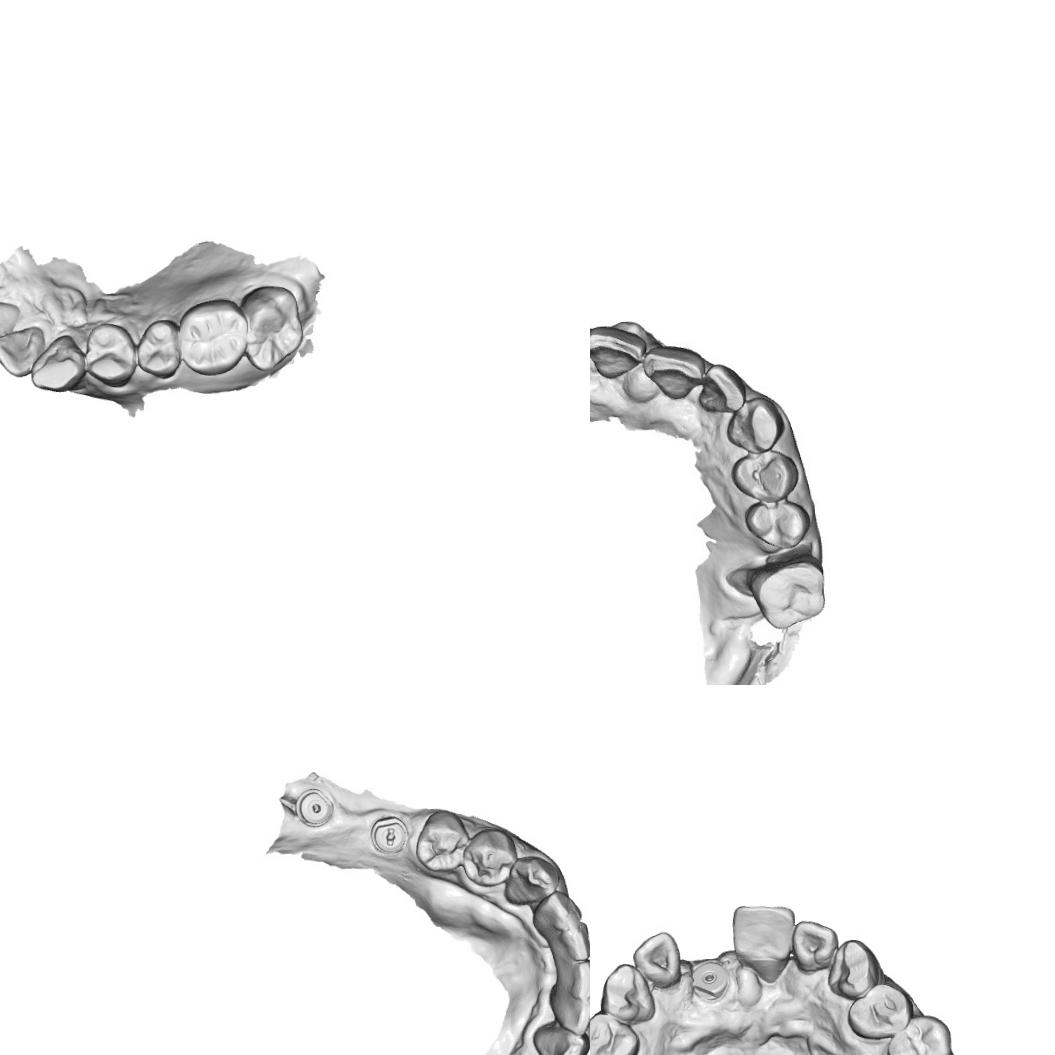canine: (597, 960, 658, 1026), (27, 334, 92, 395), (824, 934, 879, 1002), (502, 852, 561, 908), (724, 393, 780, 444), (528, 1020, 590, 1055)
implant: (686, 957, 736, 1006), (293, 783, 338, 831)
implant_minus: (367, 810, 410, 858)
incisor: (730, 902, 798, 984), (638, 345, 702, 400), (630, 928, 685, 992), (590, 323, 646, 381), (691, 363, 747, 419), (790, 917, 842, 975), (531, 887, 585, 939), (0, 323, 46, 379), (545, 983, 590, 1036), (543, 920, 590, 967), (547, 957, 590, 1003), (0, 294, 26, 353)
molar: (174, 298, 254, 382), (238, 287, 308, 380), (750, 561, 836, 634)
premolar: (844, 981, 912, 1043), (82, 320, 142, 388), (414, 806, 470, 875), (461, 824, 517, 892), (134, 316, 187, 383), (748, 492, 810, 546), (730, 458, 796, 508), (881, 1011, 955, 1055), (590, 1008, 641, 1055)
